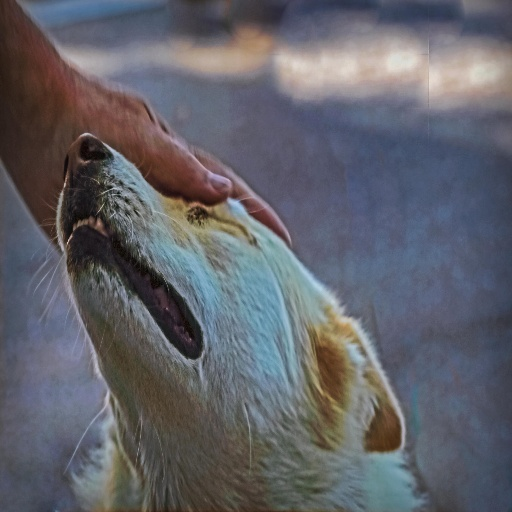hand: (38, 89, 290, 257)
